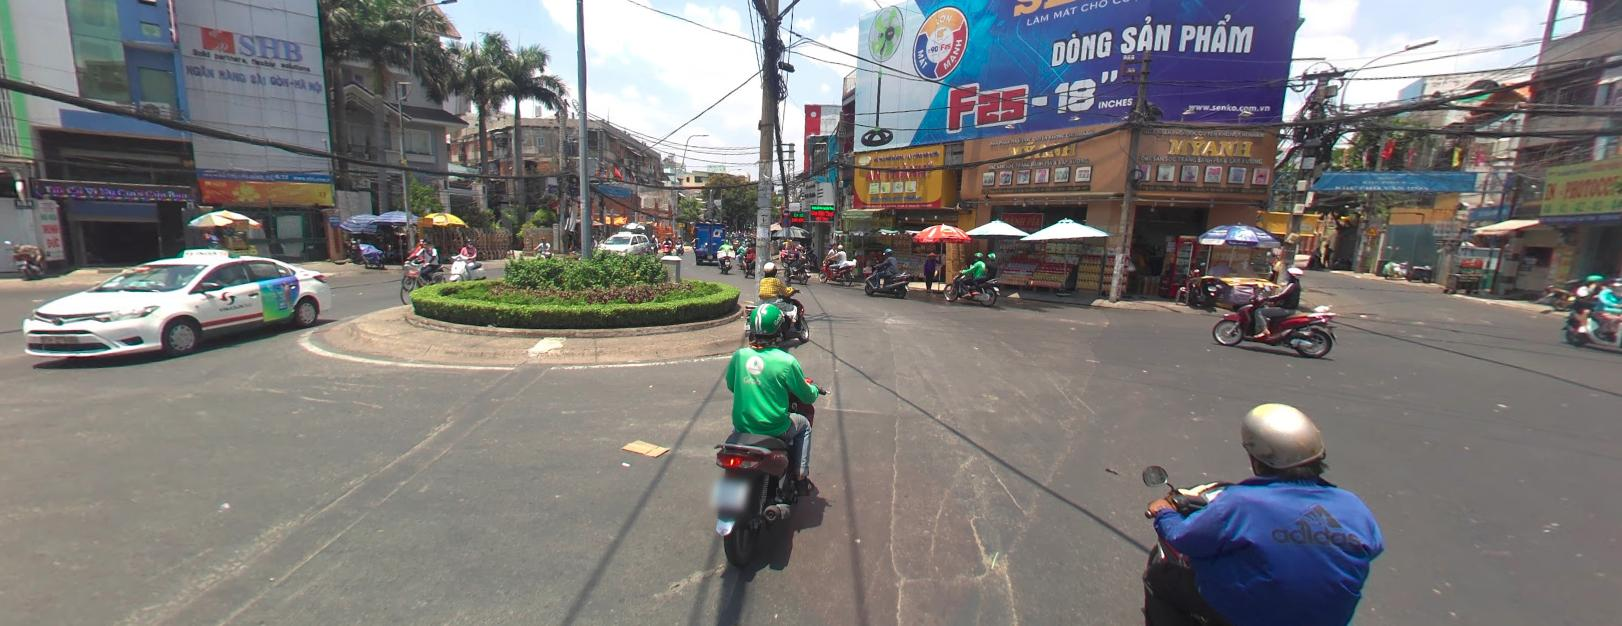Cam con lai: (780, 205, 790, 215)
Cam dung va do: (780, 215, 791, 225)
Nguy hiem: (1363, 223, 1379, 237)
